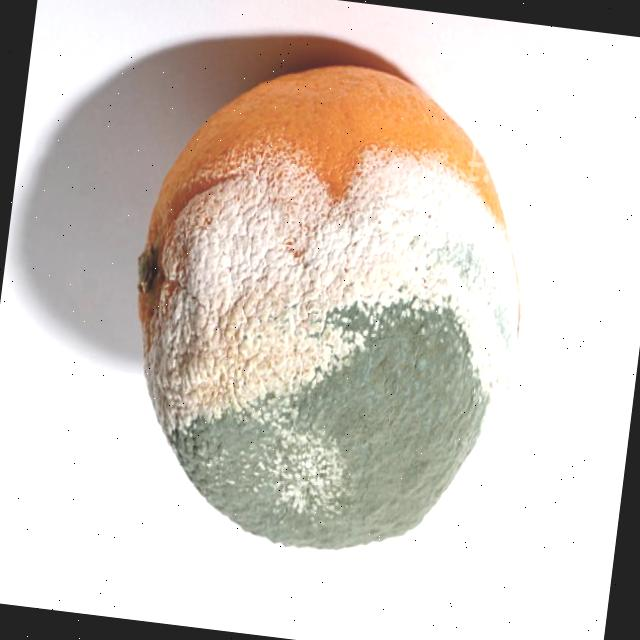rotten orange: (104, 40, 550, 573)
